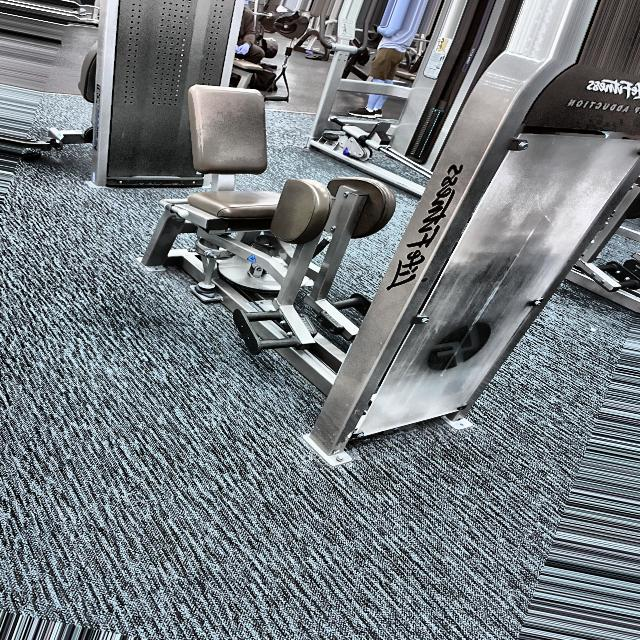hip_adduction_machine: (190, 159, 406, 366), (551, 95, 639, 124)
